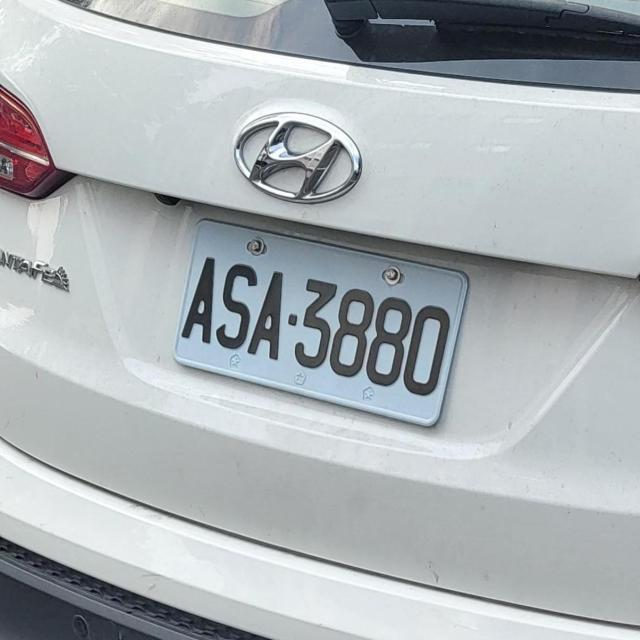W: (160, 216, 474, 420)
